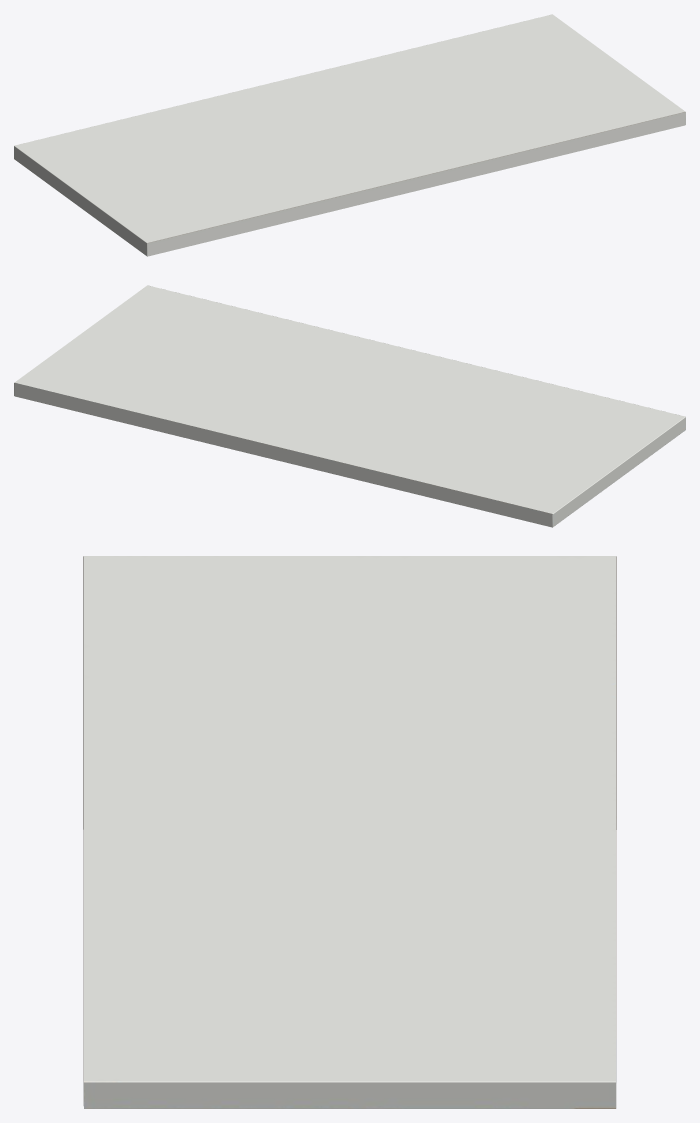
File: LAGKAPTEN_40460815.glb
3 renders of one model, top to bottom at view 1: azimuth 30°, elevation 25°; view 2: azimuth 150°, elevation 25°; view 3: azimuth 270°, elevation 25°, orthographic. The views are drawn at different scales.
Visible parts, largest first — view 1: model; view 2: model; view 3: model.
Boxes of the visible parts, x1,y1,x2,y2 form: model: (14,14,685,256); model: (14,285,685,527); model: (83,556,616,1108).
Bounding box in the file's own units: 1.4 × 0.034 × 0.5999.
1 material, 1 textured.
